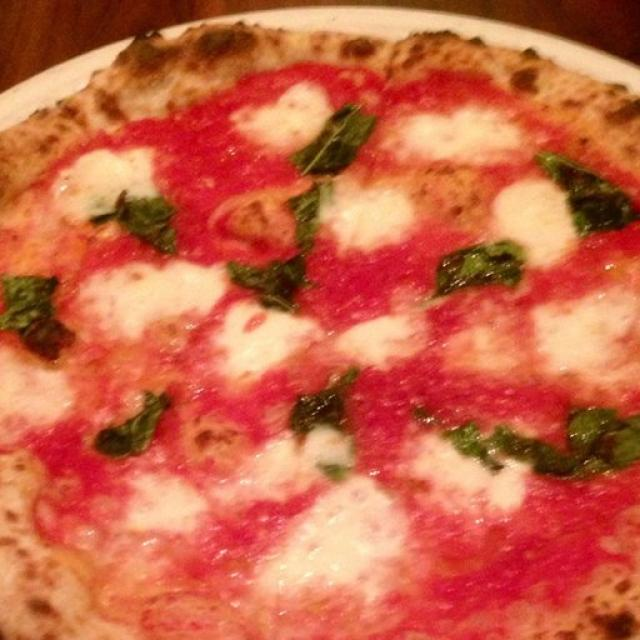Basil: (435, 385, 640, 470), (531, 138, 640, 238), (0, 268, 70, 372), (231, 243, 319, 318), (296, 100, 375, 176), (429, 238, 542, 290), (90, 395, 180, 460), (90, 194, 182, 248), (285, 375, 362, 428), (272, 176, 322, 252)
Cheese: (257, 488, 405, 584), (524, 288, 639, 398), (89, 257, 221, 330), (228, 422, 354, 498), (205, 297, 312, 379), (322, 161, 410, 259), (218, 78, 329, 154), (484, 178, 567, 268), (392, 104, 518, 162), (53, 142, 151, 214), (125, 462, 213, 522), (342, 306, 417, 366)
Pizza: (0, 22, 640, 640)
